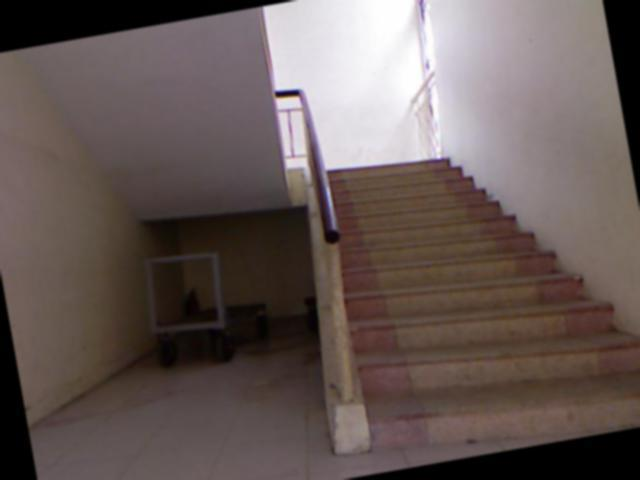Escaleras: (298, 108, 640, 473)
